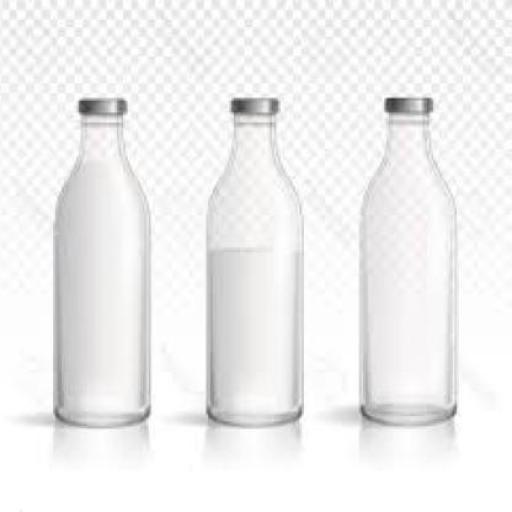glass: (55, 113, 153, 429), (363, 110, 459, 424), (210, 112, 306, 422)
metal: (386, 91, 434, 115), (81, 96, 132, 112), (234, 96, 280, 112)
